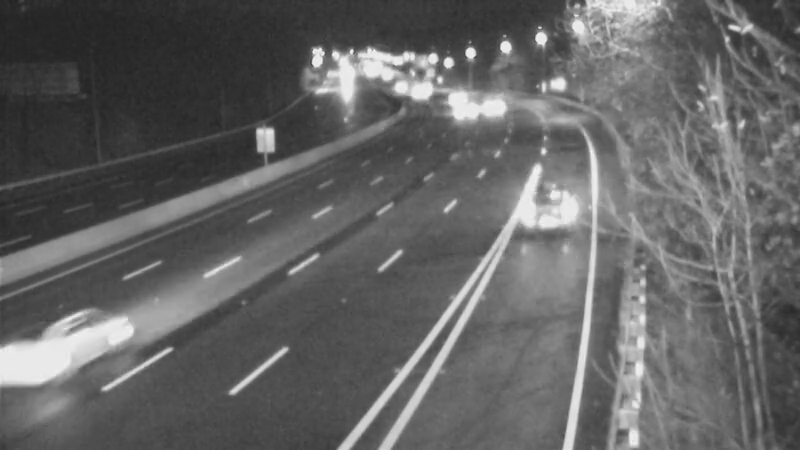vehicle: (1, 307, 97, 417), (503, 166, 583, 246), (374, 61, 424, 111), (391, 72, 441, 122), (427, 74, 477, 124), (462, 81, 512, 131), (436, 88, 486, 138)
